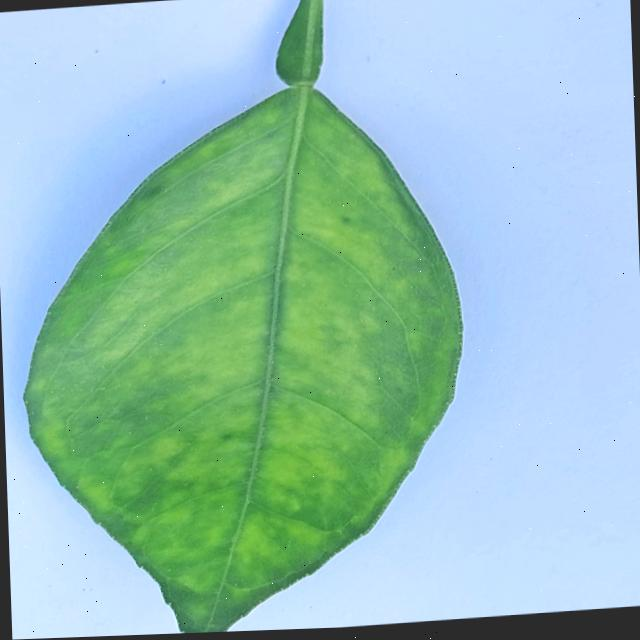greening: (24, 0, 461, 633)
